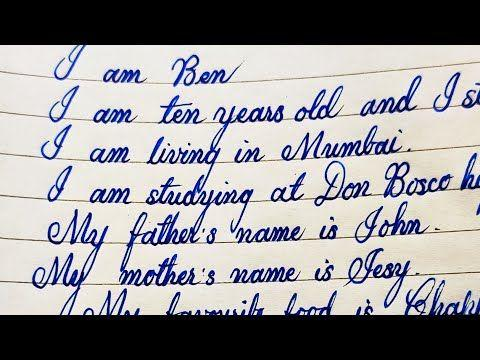text: (45, 151, 480, 237), (48, 69, 480, 148), (45, 198, 440, 279), (38, 121, 412, 192), (29, 248, 412, 313), (81, 276, 479, 315), (51, 45, 244, 89)
